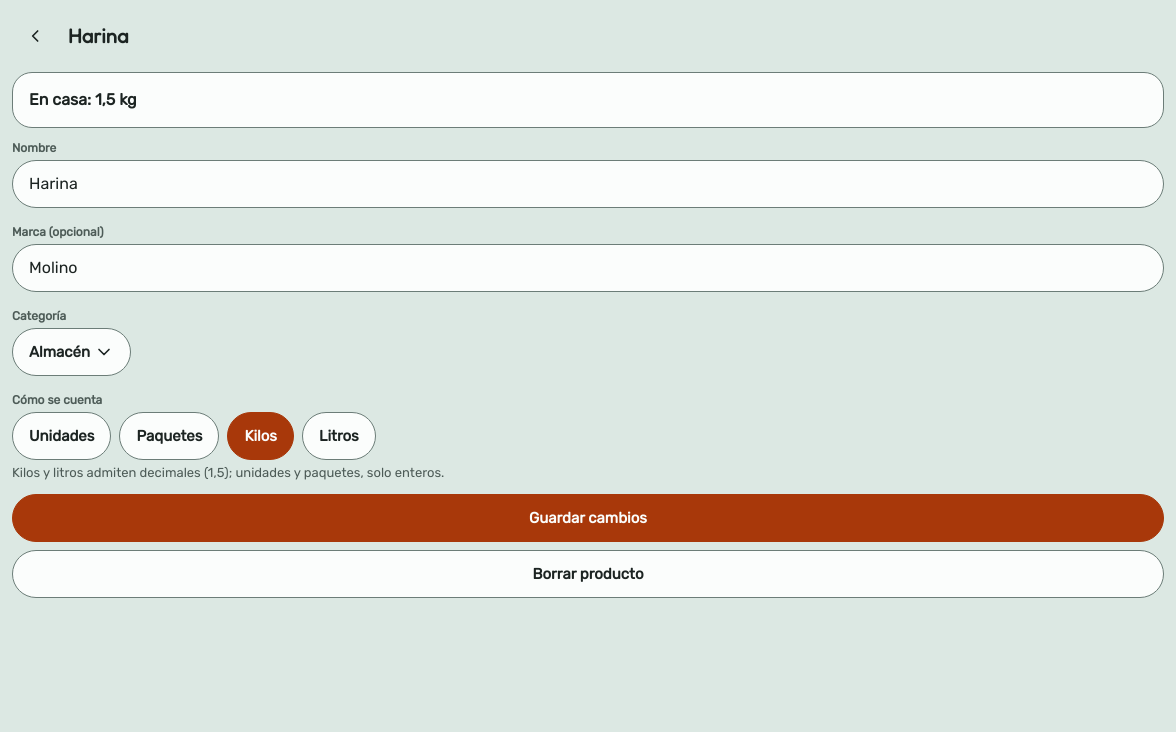
Ficha de producto › sin conexión: avisa y no vuelve
The width and height of the screenshot is (1176, 732).
Click the button "Guardar cambios". click: (588, 518)
box: [12,494,1164,542]
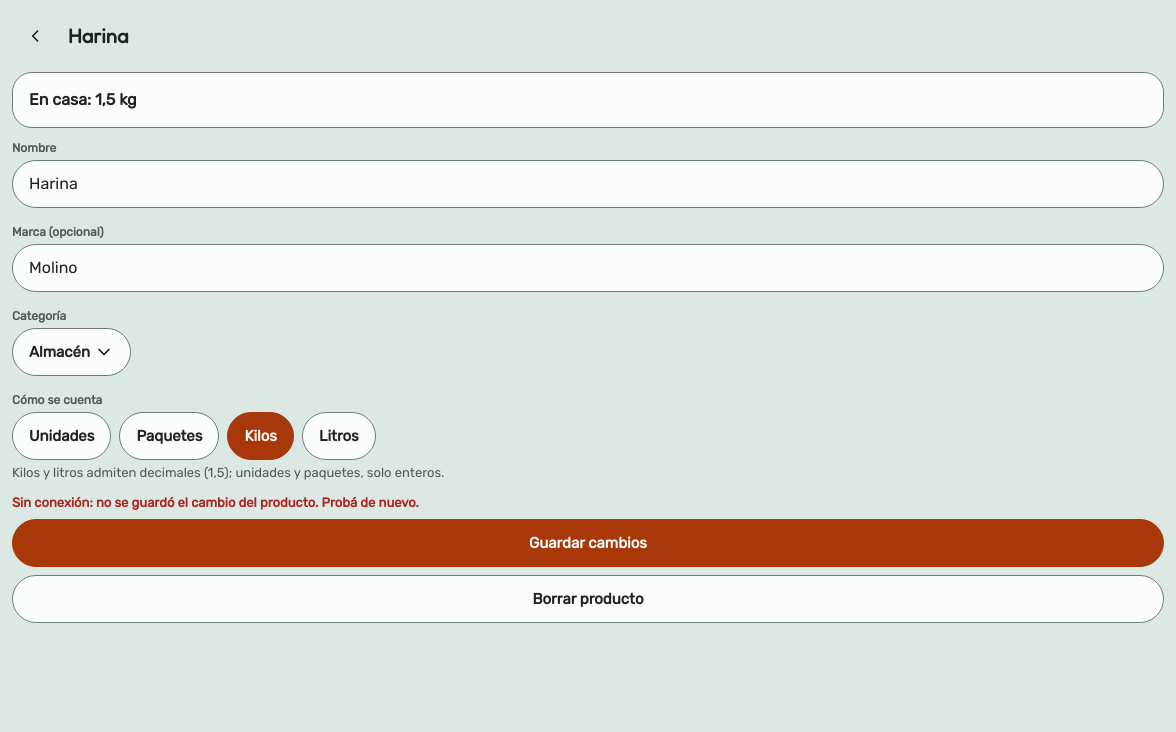
Now the text "Sin conexión: no se guardó el cambio del producto. Probá de nuevo." is shown, box [12,495,419,510]
